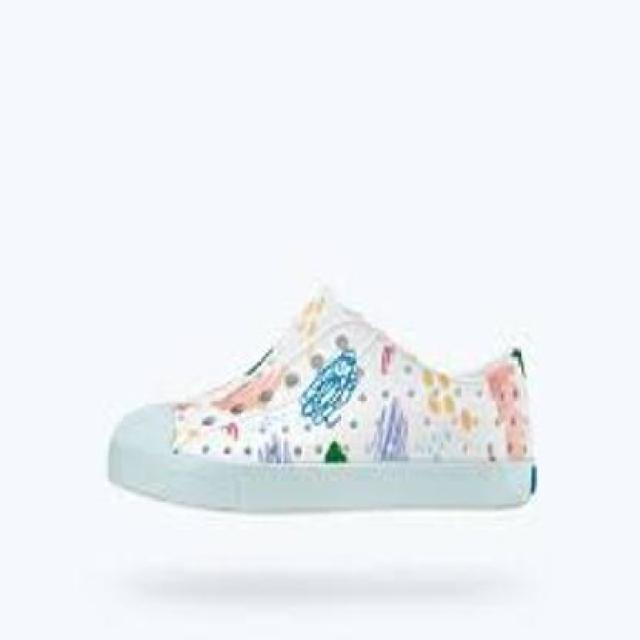not trash: (104, 288, 542, 514)
